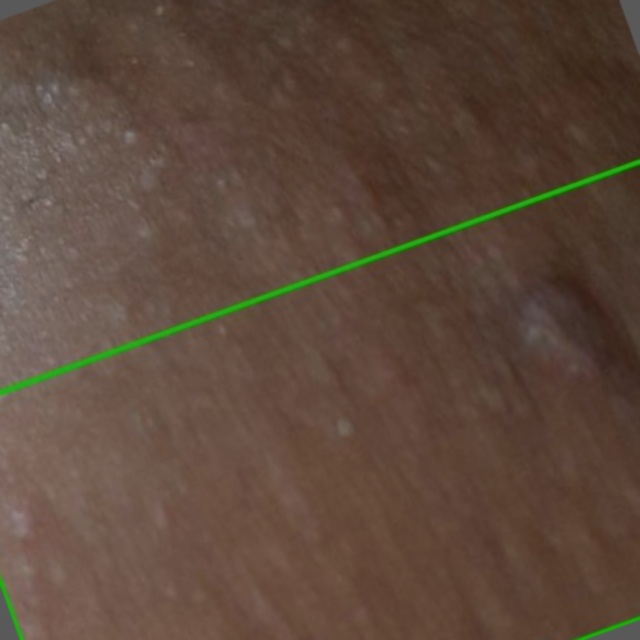Scabies: (0, 161, 639, 639)
